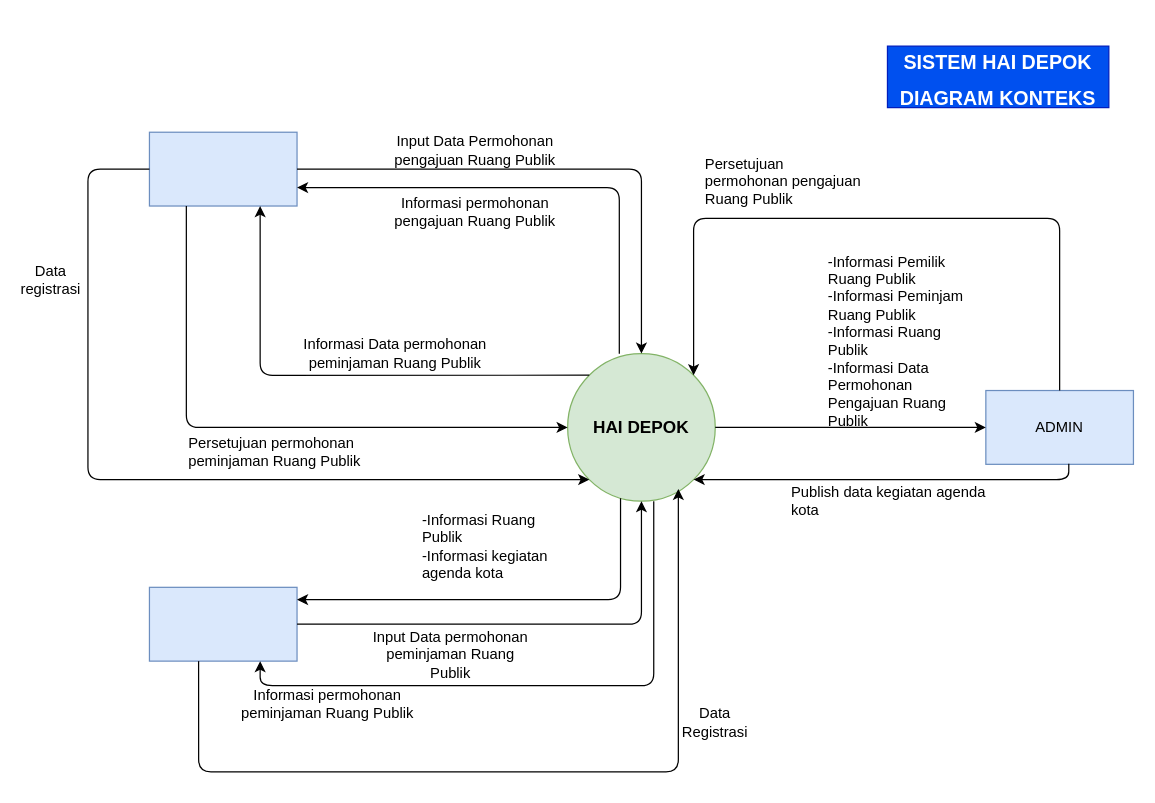
This 1155x803 diagram has some shape labels left out. The centre of each missing label's shape, as x and y in pixels:
PEMILIK RUANG PUBLIK: the point at 222,168
PUBLIK: the point at 222,623
